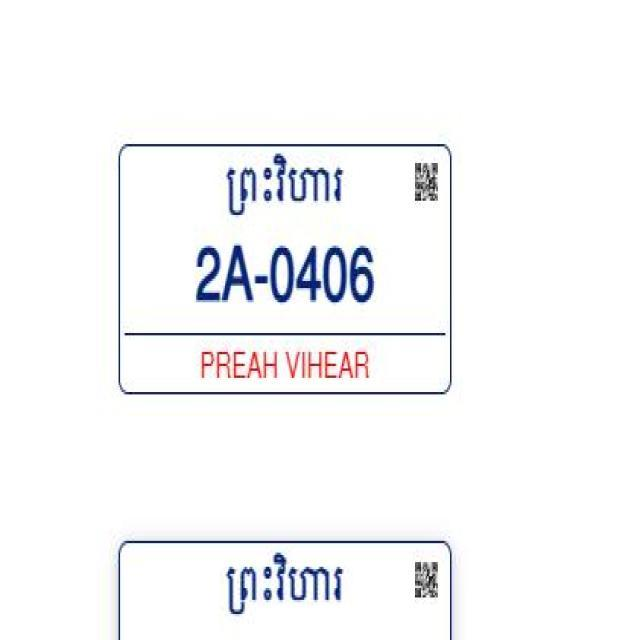Preah_Vihear: (224, 546, 348, 629), (225, 149, 344, 224)
